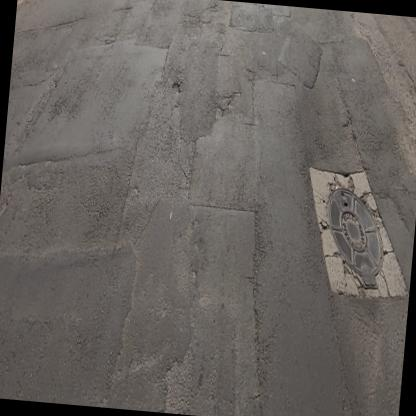manholes: (317, 176, 395, 307)
